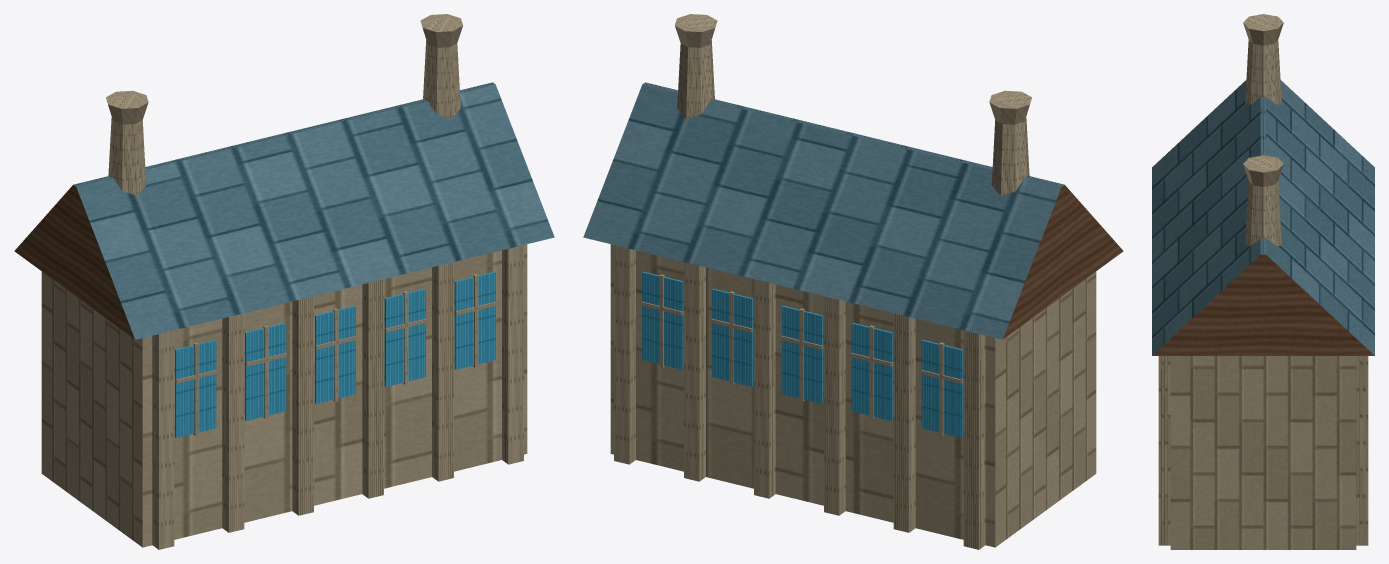
The model's file is great_hall.glb.
The picture shows the model from 3 angles, left to right: view 1: azimuth 30°, elevation 25°; view 2: azimuth 150°, elevation 25°; view 3: azimuth 270°, elevation 25°; orthographic projection. The views are drawn at different scales.
Bounding box in the file's own units: 24 × 22 × 12.
Materials: 1 (1 with a texture image).
